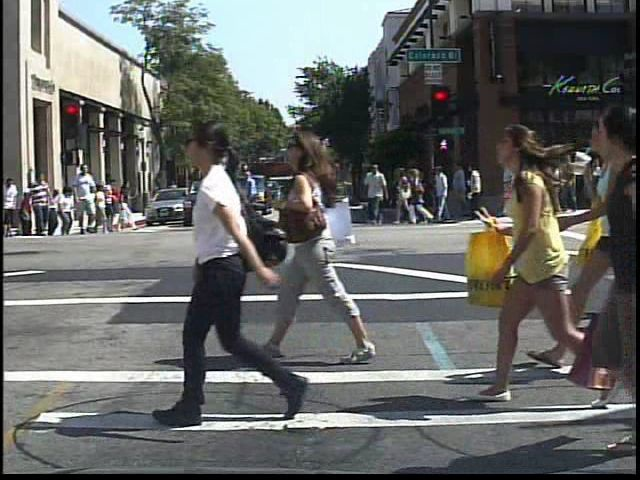person: (157, 113, 313, 431), (485, 104, 584, 404), (268, 119, 384, 360), (528, 107, 608, 371), (70, 161, 98, 235), (26, 173, 52, 239), (2, 173, 23, 240), (499, 150, 520, 214), (105, 175, 125, 214), (165, 174, 183, 208)
